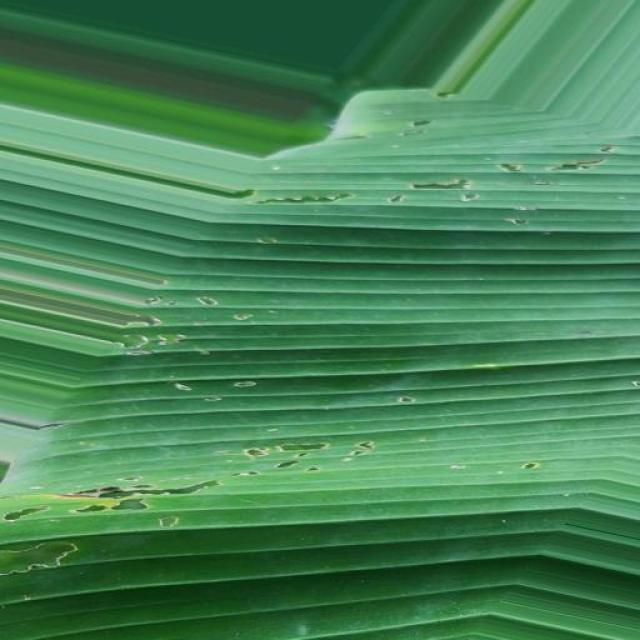Black_rot: (0, 317, 459, 596)
